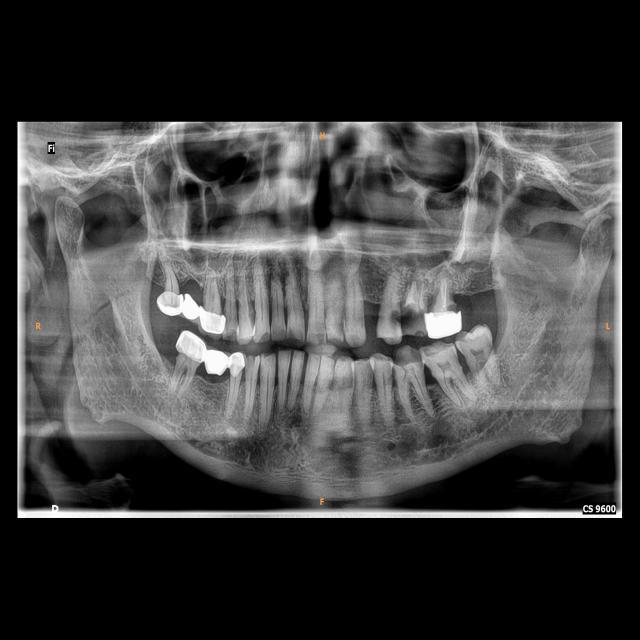dentin-curugu: (395, 346, 423, 368), (405, 301, 420, 335), (390, 302, 403, 330)
kanal-tedavisi: (431, 277, 451, 307)
kaplama: (423, 308, 464, 338), (170, 329, 207, 362), (200, 308, 226, 334), (155, 292, 183, 314), (226, 352, 245, 375)
kopru: (194, 349, 234, 380), (172, 291, 206, 325)
